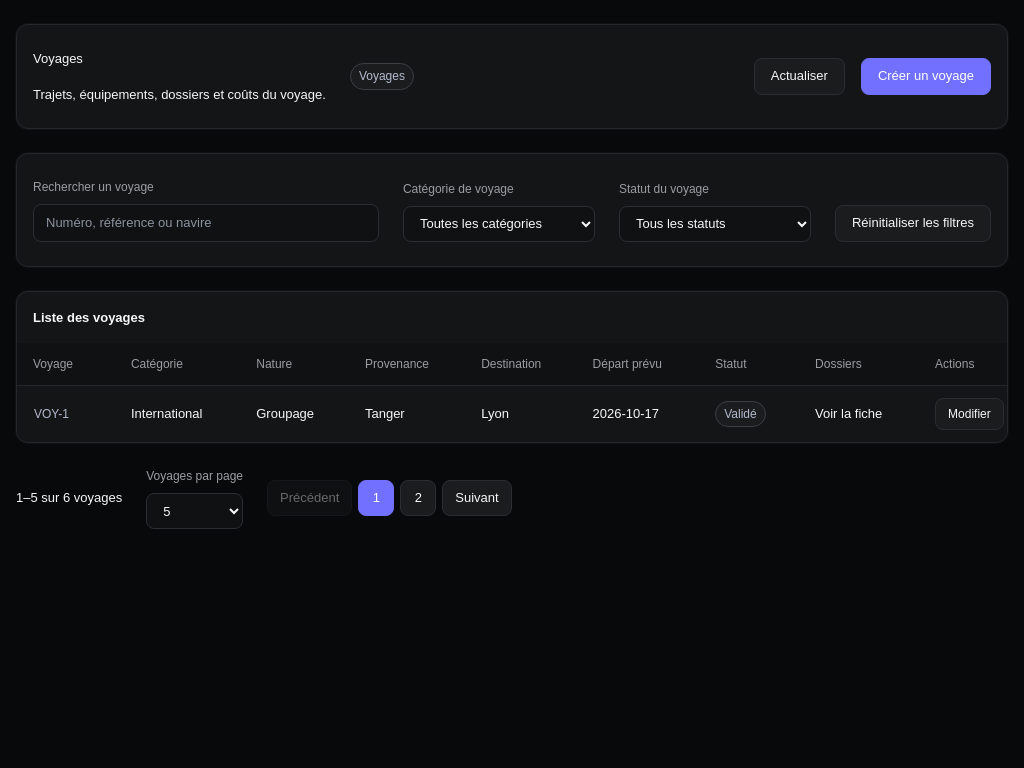
Voyages API presentation › loads detail and preserves hidden keys, numeric enums and unchanged timestamps
The image size is (1024, 768).
Step 1. Click the button named "Modifier VOY-1" → {"x": 969, "y": 414}, box top-left (935, 398), bottom-right (1004, 430)
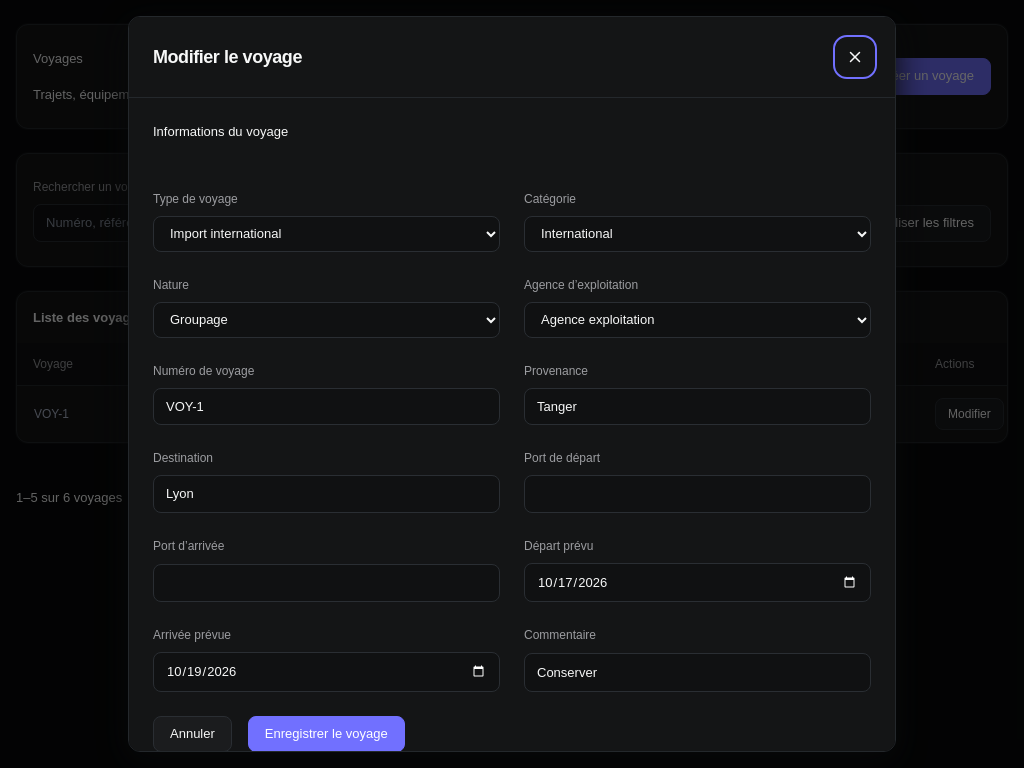
Result: the field labelled "Commentaire" is shown
Result: the button "Enregistrer le voyage" is enabled at top-left (248, 716), bottom-right (405, 752)
Result: the date field labelled "Départ prévu" holds "2026-10-17" at top-left (524, 562), bottom-right (871, 602)
Step 2. Replace the text in the field labelled "Commentaire" with "Modification visible" → {"x": 698, "y": 672}, box top-left (524, 653), bottom-right (871, 692)
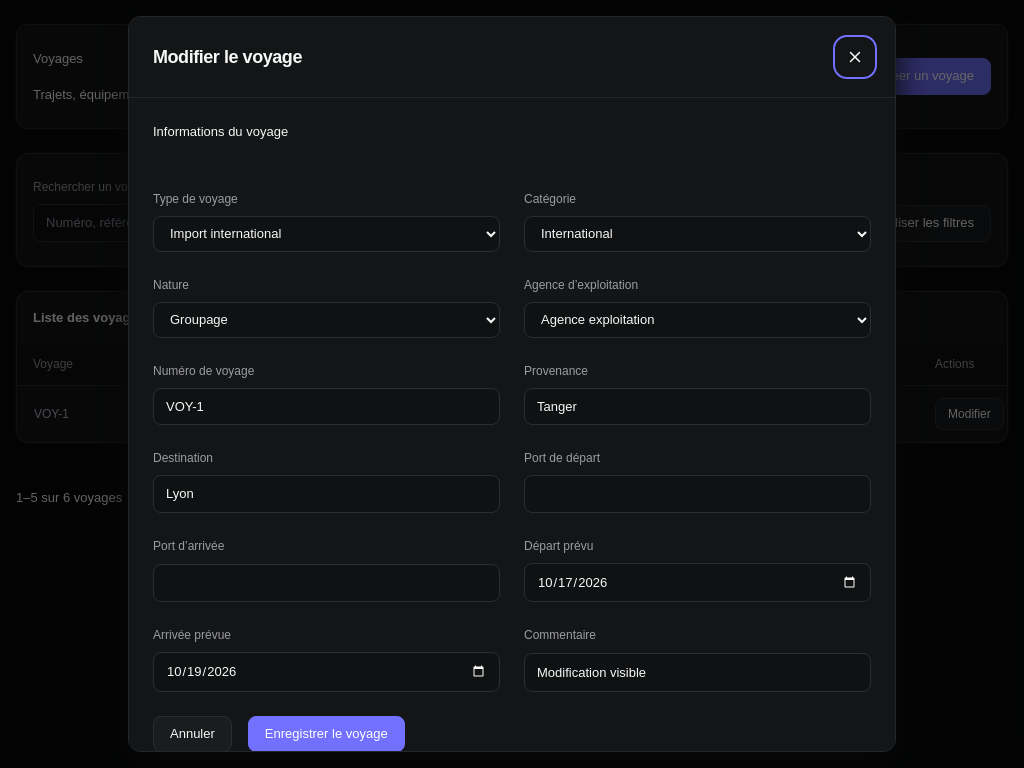
Step 3. Click the button "Enregistrer le voyage" → {"x": 326, "y": 734}, box top-left (248, 716), bottom-right (405, 752)
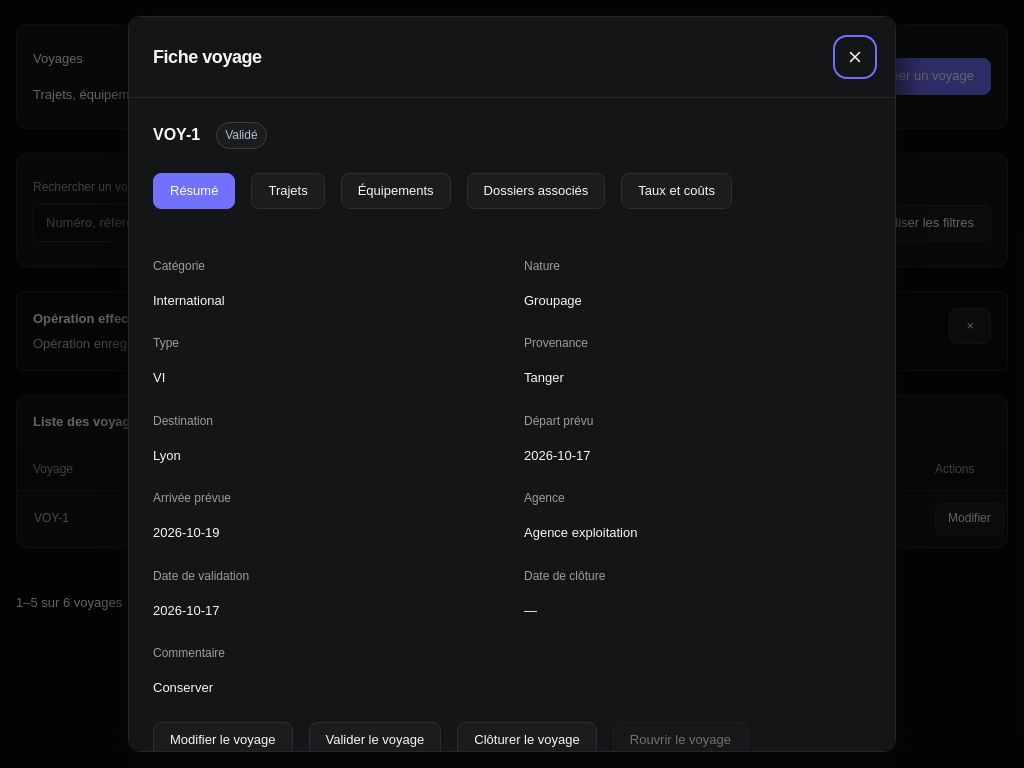
Result: the text "Opération enregistrée." is shown at top-left (33, 336), bottom-right (162, 351)
